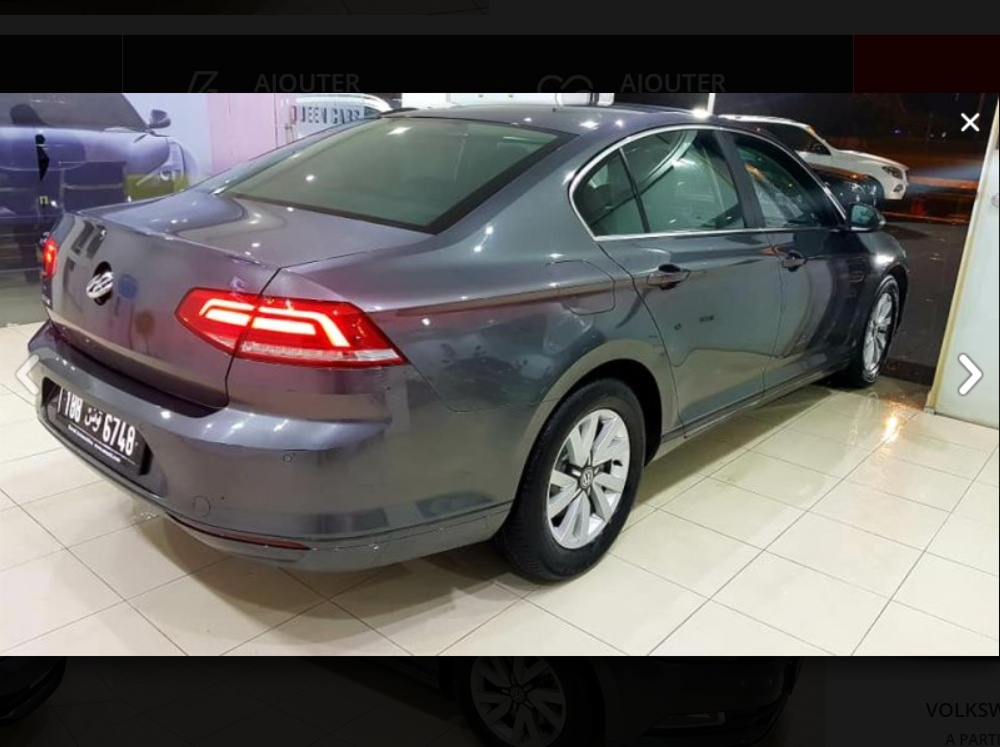LP: (50, 387, 146, 474)
